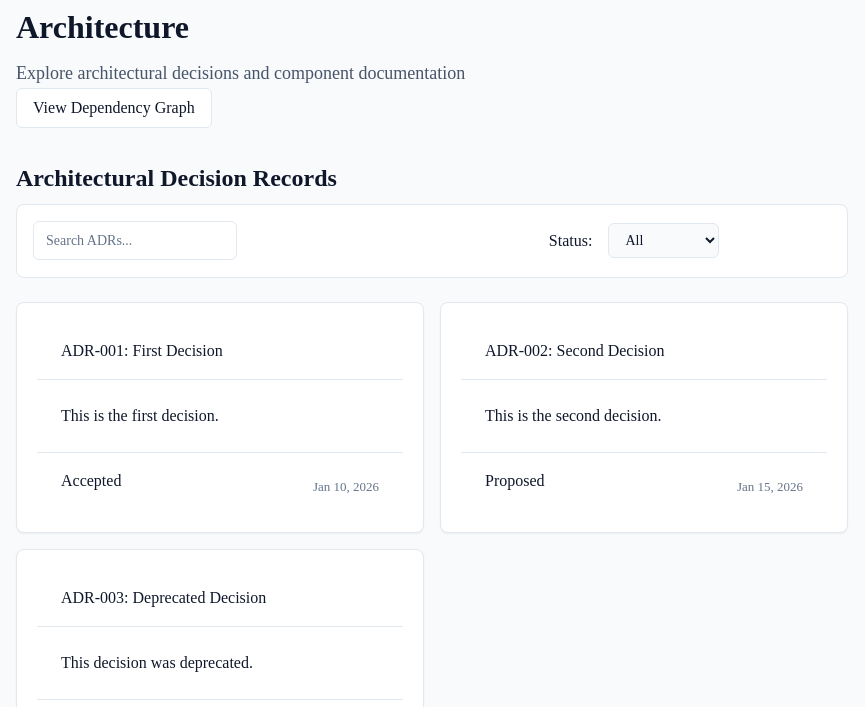
Scenario: ArchitectureContainer › should filter ADRs by search query
The width and height of the screenshot is (865, 707).
Expected: the heading "ADR-001: First Decision" is shown, [61,339,223,363]
Type "second" into the search field with placeholder "Search ADRs..." at x=135, y=241, box [33,221,237,260]
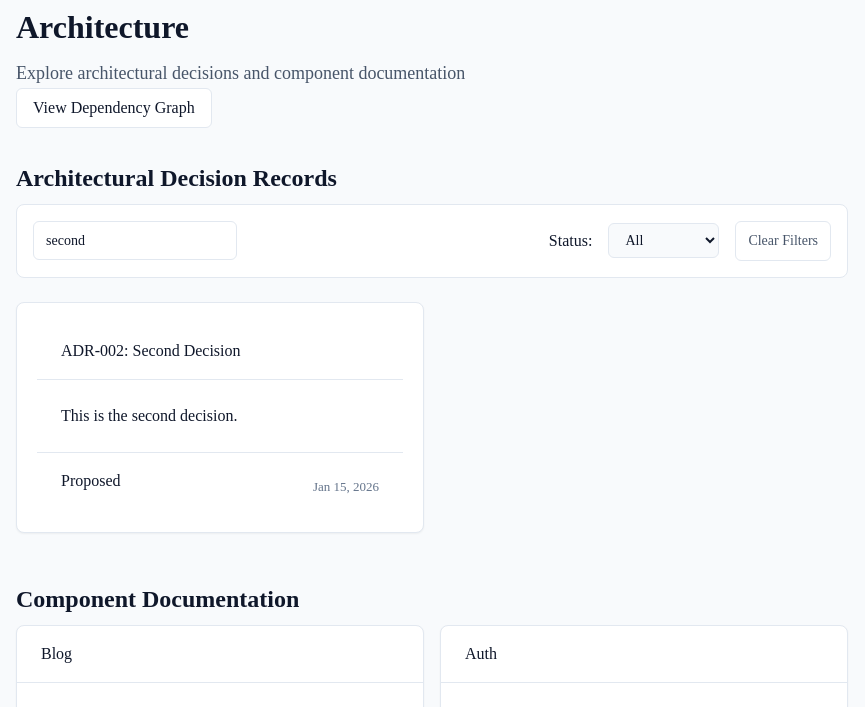
Expected: the heading "ADR-002: Second Decision" is shown, [61,339,240,363]
Now the link "ADR-001: First Decision" is gone
